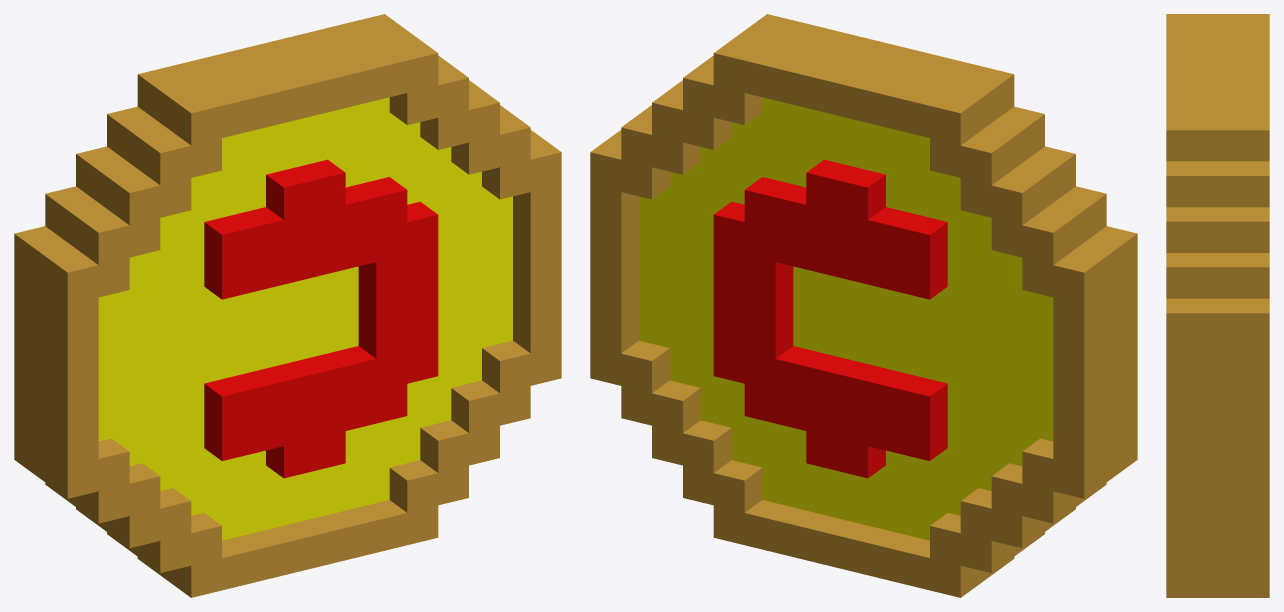
File: coin.dae
3 views of the same model, side by side, from view 1: azimuth 30°, elevation 25°; view 2: azimuth 150°, elevation 25°; view 3: azimuth 270°, elevation 25° (orthographic). The views are drawn at different scales.
Visible parts, largest first — view 1: coin; view 2: coin; view 3: coin.
Part boxes in pixels (x1,y1,x2,y2): coin: (14,14,561,597); coin: (590,14,1137,597); coin: (1166,14,1269,597).
Size of the model in its own units: 1.6 by 0.3 by 1.5.
Materials: 1 (1 with a texture image).
